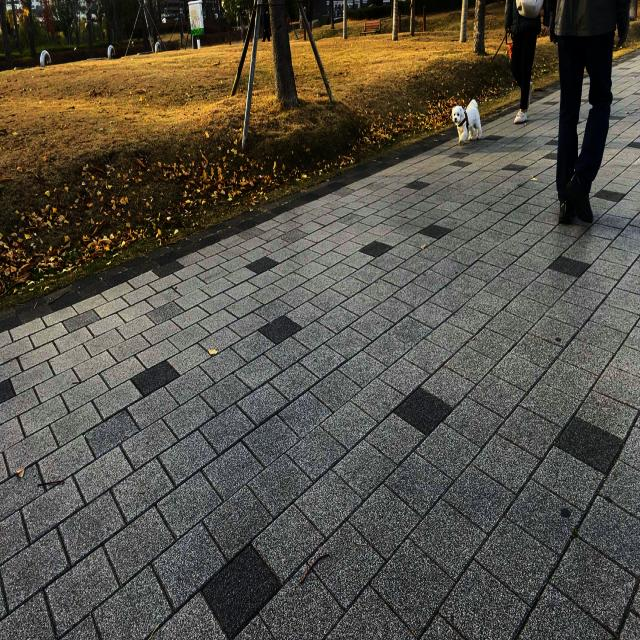Leashed_Dog: (452, 9, 520, 144)
